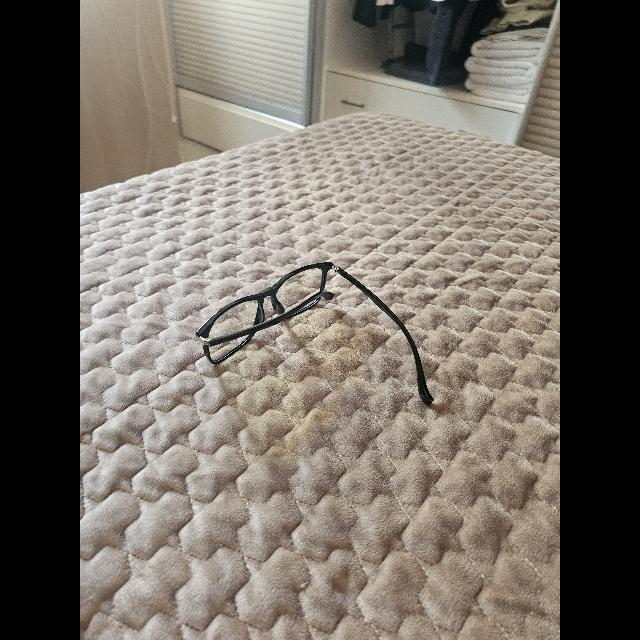glasses: (196, 262, 434, 404)
